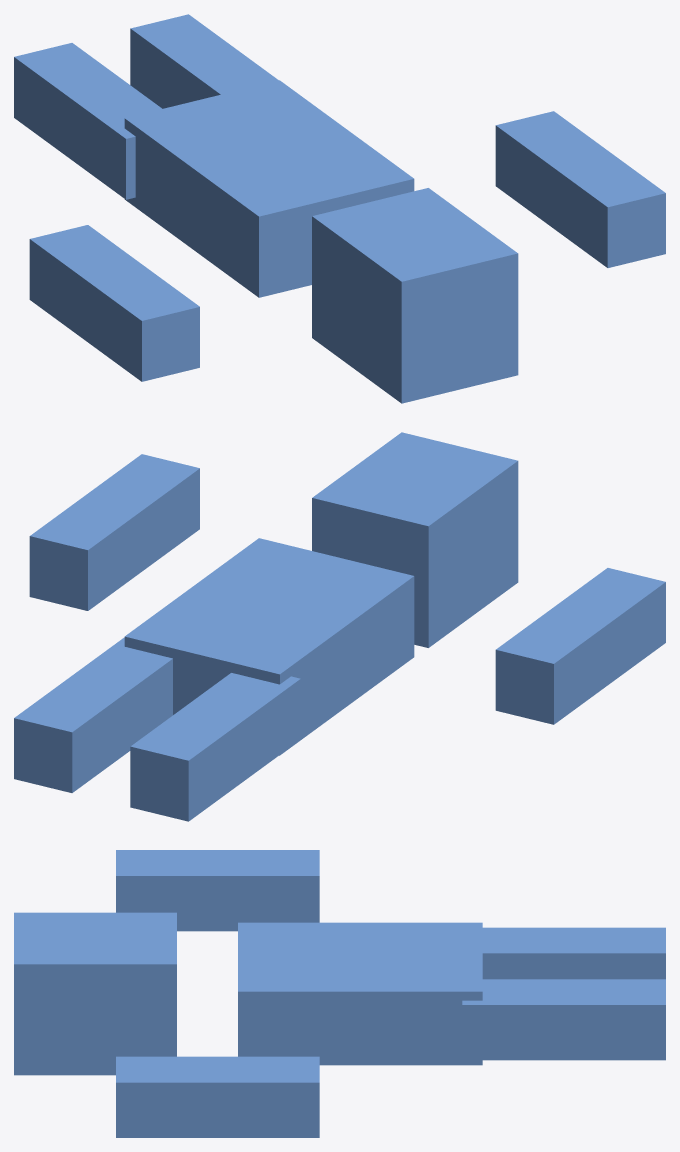
File: isis_npc_hades.glb
3 renders of one model, top to bottom at view 1: azimuth 30°, elevation 25°; view 2: azimuth 150°, elevation 25°; view 3: azimuth 270°, elevation 25°, orthographic. The views are drawn at different scales.
Parts seen in each view (by area): view 1: isis_npc; view 2: isis_npc; view 3: isis_npc.
Boxes of the visible parts, x1,y1,x2,y2 form: isis_npc: (14, 14, 665, 403); isis_npc: (14, 432, 665, 821); isis_npc: (14, 850, 665, 1137).
Bounding box in the file's own units: 2.7 × 0.6 × 3.2.
